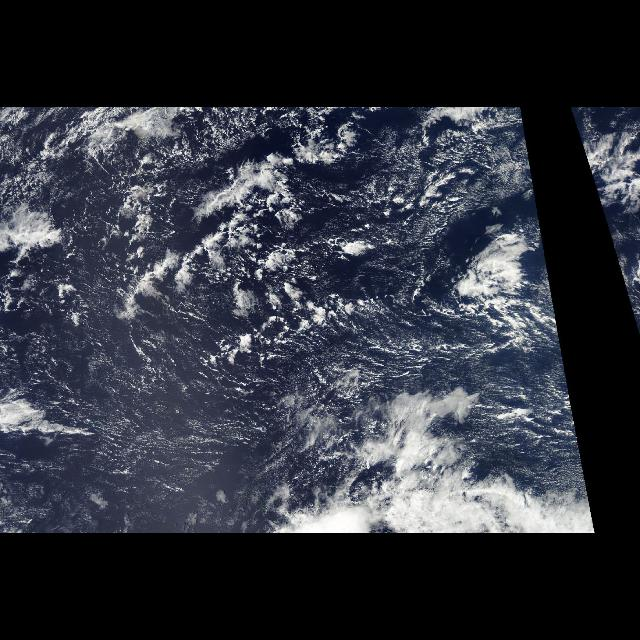Gravel: (41, 112, 558, 426)
Sugar: (1, 305, 308, 533), (481, 352, 587, 486)
